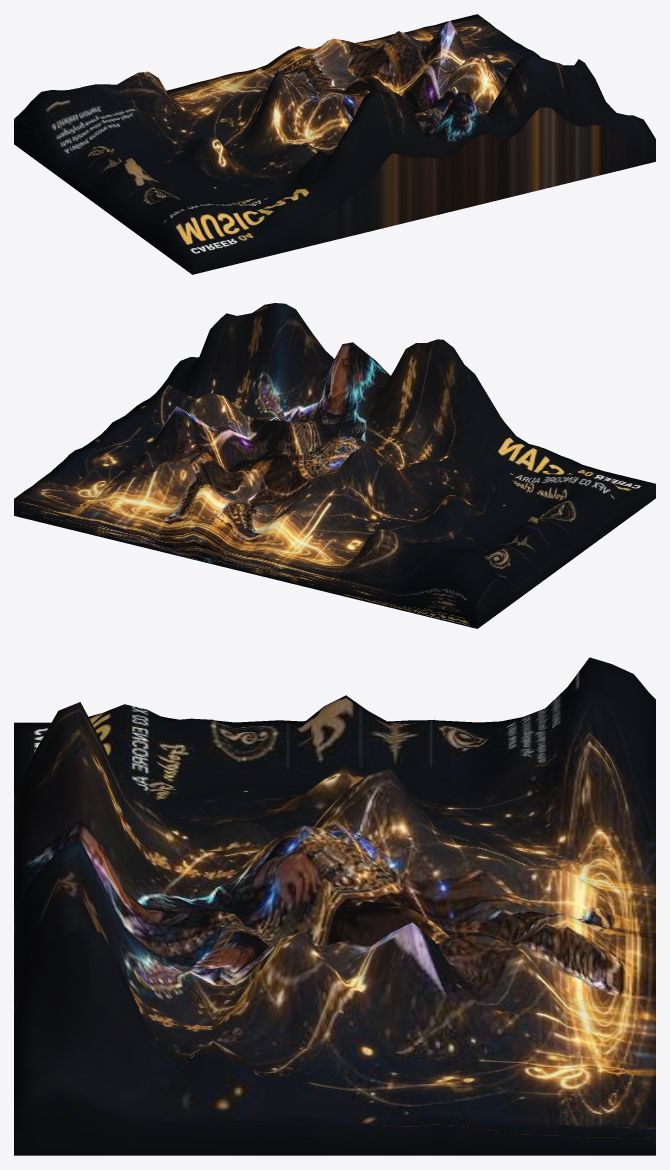
File: CAREER_04_VFX_03_Encore.glb
3 renders of one model, top to bottom at view 1: azimuth 30°, elevation 25°; view 2: azimuth 150°, elevation 25°; view 3: azimuth 270°, elevation 25°, orthographic. The views are drawn at different scales.
Parts seen in each view (by area): view 1: CAREER_04_VFX_03_Encore; view 2: CAREER_04_VFX_03_Encore; view 3: CAREER_04_VFX_03_Encore.
Part boxes in pixels (<box>): CAREER_04_VFX_03_Encore: <box>14,14,655,274</box>; CAREER_04_VFX_03_Encore: <box>14,303,655,628</box>; CAREER_04_VFX_03_Encore: <box>14,657,655,1155</box>.
Bounding box in the file's own units: 2 × 0.51 × 1.33.
Materials: 1 (1 with a texture image).
